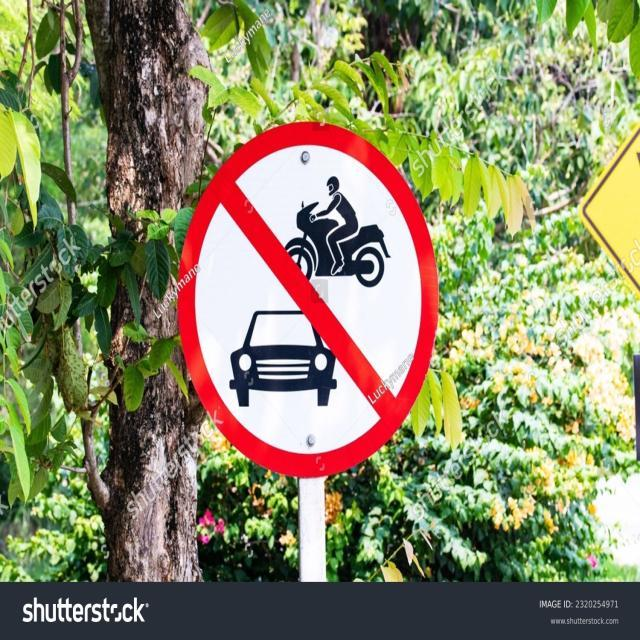all motor vehicle prohibited: (183, 120, 433, 468)
